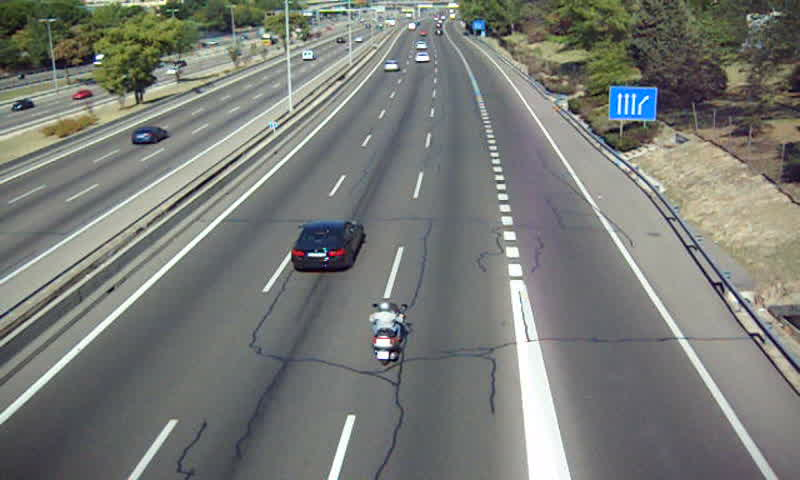car: (291, 219, 365, 273), (413, 52, 432, 64), (384, 58, 398, 73)
motorcycle: (367, 300, 409, 365)
